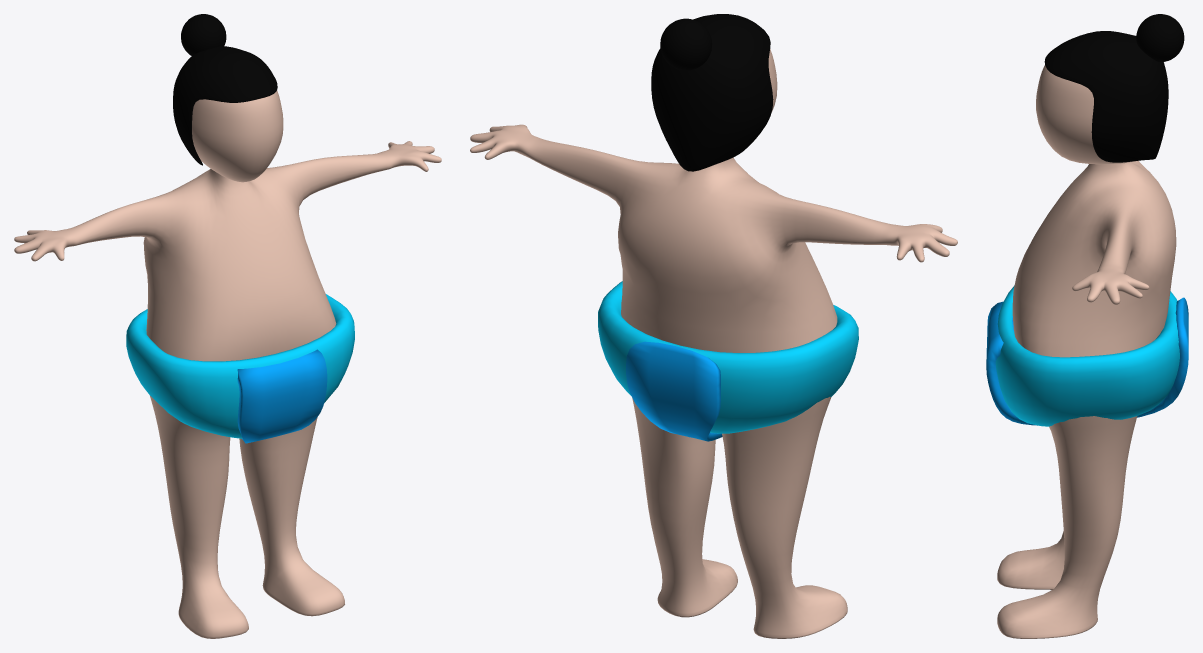
The model's file is semi sumo 3.fbx.
3 renders of one model, left to right at view 1: azimuth 30°, elevation 25°; view 2: azimuth 150°, elevation 25°; view 3: azimuth 270°, elevation 25°, orthographic. The views are drawn at different scales.
Visible parts, largest first — view 1: Cube.019, Cube.018, Cube.020, Cube.017, Cube.016, Sphere.003; view 2: Cube.019, Cube.016, Cube.018, Cube.017, Sphere.003; view 3: Cube.019, Cube.018, Cube.016, Cube.020, Cube.017, Sphere.003.
Boxes of the visible parts, x1=… form: Cube.019: x1=14, y1=141, x2=441, y2=638; Cube.018: x1=126, y1=294, x2=354, y2=438; Cube.020: x1=192, y1=90, x2=283, y2=182; Cube.017: x1=237, y1=349, x2=327, y2=443; Cube.016: x1=173, y1=46, x2=277, y2=165; Sphere.003: x1=181, y1=14, x2=226, y2=55; Cube.019: x1=470, y1=124, x2=957, y2=638; Cube.016: x1=651, y1=14, x2=773, y2=171; Cube.018: x1=598, y1=281, x2=858, y2=433; Cube.017: x1=626, y1=341, x2=722, y2=441; Sphere.003: x1=660, y1=18, x2=712, y2=70; Cube.019: x1=997, y1=161, x2=1176, y2=638; Cube.018: x1=995, y1=285, x2=1179, y2=426; Cube.016: x1=1044, y1=31, x2=1168, y2=162; Cube.020: x1=1036, y1=65, x2=1133, y2=164; Cube.017: x1=986, y1=297, x2=1188, y2=425; Sphere.003: x1=1136, y1=14, x2=1184, y2=62.
Bounding box in the file's own units: 194 × 244 × 76.59.
